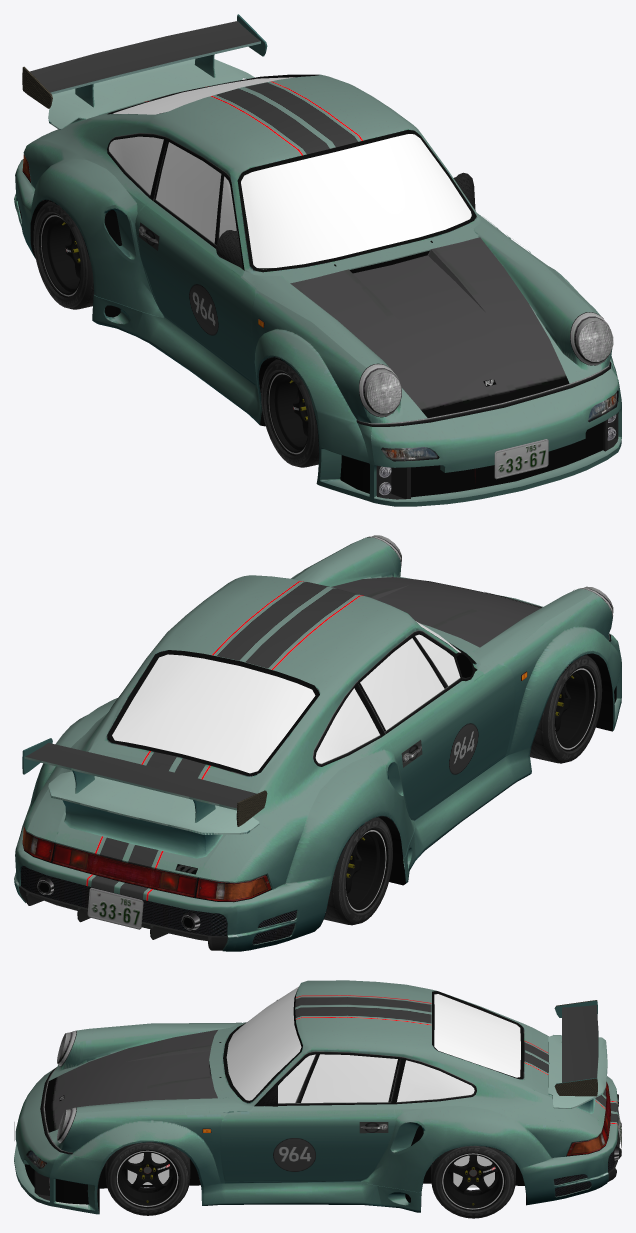
Rendered from Porscche.glb.
3 views of the same model, one above another, from view 1: azimuth 30°, elevation 25°; view 2: azimuth 150°, elevation 25°; view 3: azimuth 270°, elevation 25° (orthographic). The views are drawn at different scales.
Parts seen in each view (by area): view 1: PLC_R964_aero_F_.001, glass___O_OBJ_O_NOSORT_NEAR_.002, PLC_R964_bonnet_N_.002, PLC_R964_rearspoiler_N_F_, PLC_R964_body_N_.002, PLC_R964_aero_F_.002, HL_BD_COVER___O_OBJ_O_NOSORT_NEAR_.002, wheel.002, wheel.003, HONDA_CIVIC_TURBO_LOD_A_TYRE_mm_tyre.003, HONDA_CIVIC_TURBO_LOD_A_TYRE_mm_tyre.002, PLC_R964_aero_F_.003 (+2 smaller); view 2: PLC_R964_aero_F_.001, glass___O_OBJ_O_NOSORT_NEAR_.002, PLC_R964_rearspoiler_N_F_, PLC_R964_body_N_.002, PLC_R964_bonnet_N_.002, PLC_R964_trunk_N_NABCDEFGH_.002, wheel.002, wheel.003, HONDA_CIVIC_TURBO_LOD_A_TYRE_mm_tyre.002, HONDA_CIVIC_TURBO_LOD_A_TYRE_mm_tyre.003, PLC_R964_aero_F_.002, PLC_R964_aero_F_.003 (+1 smaller); view 3: PLC_R964_aero_F_.001, glass___O_OBJ_O_NOSORT_NEAR_.002, PLC_R964_bonnet_N_.002, PLC_R964_rearspoiler_N_F_, PLC_R964_body_N_.002, wheel, wheel.001, HONDA_CIVIC_TURBO_LOD_A_TYRE_mm_tyre.001, HONDA_CIVIC_TURBO_LOD_A_TYRE_mm_tyre, PLC_R964_aero_F_.002, PLC_R964_trunk_N_NABCDEFGH_.002, PLC_R964_body_N_L0_.004 (+3 smaller).
Part boxes in pixels (box(x1,y1,x2,y2)): PLC_R964_aero_F_.001: box(14, 74, 621, 506); glass___O_OBJ_O_NOSORT_NEAR_.002: box(109, 77, 471, 267); PLC_R964_bonnet_N_.002: box(290, 237, 569, 417); PLC_R964_rearspoiler_N_F_: box(22, 14, 267, 129); PLC_R964_body_N_.002: box(22, 74, 611, 417); PLC_R964_aero_F_.002: box(30, 200, 611, 493); HL_BD_COVER___O_OBJ_O_NOSORT_NEAR_.002: box(363, 316, 613, 413); wheel.002: box(266, 371, 308, 455); wheel.003: box(39, 213, 80, 297); HONDA_CIVIC_TURBO_LOD_A_TYRE_mm_tyre.003: box(33, 201, 93, 309); HONDA_CIVIC_TURBO_LOD_A_TYRE_mm_tyre.002: box(261, 359, 318, 467); PLC_R964_aero_F_.003: box(494, 439, 548, 479); PLC_R964_aero_F_.001: box(14, 537, 621, 951); glass___O_OBJ_O_NOSORT_NEAR_.002: box(112, 621, 460, 773); PLC_R964_rearspoiler_N_F_: box(22, 738, 267, 858); PLC_R964_body_N_.002: box(22, 536, 613, 902); PLC_R964_bonnet_N_.002: box(331, 577, 541, 647); PLC_R964_trunk_N_NABCDEFGH_.002: box(54, 751, 254, 877); wheel.002: box(554, 667, 597, 751); wheel.003: box(345, 829, 388, 912); HONDA_CIVIC_TURBO_LOD_A_TYRE_mm_tyre.002: box(529, 654, 602, 763); HONDA_CIVIC_TURBO_LOD_A_TYRE_mm_tyre.003: box(324, 817, 392, 925); PLC_R964_aero_F_.002: box(275, 579, 616, 888); PLC_R964_aero_F_.003: box(87, 887, 143, 929); PLC_R964_aero_F_.001: box(14, 980, 621, 1214); glass___O_OBJ_O_NOSORT_NEAR_.002: box(226, 986, 520, 1103); PLC_R964_bonnet_N_.002: box(44, 1030, 221, 1132); PLC_R964_rearspoiler_N_F_: box(548, 1000, 607, 1113); PLC_R964_body_N_.002: box(57, 989, 610, 1156); wheel: box(441, 1153, 504, 1210); wheel.001: box(116, 1150, 179, 1208); HONDA_CIVIC_TURBO_LOD_A_TYRE_mm_tyre.001: box(105, 1142, 190, 1215); HONDA_CIVIC_TURBO_LOD_A_TYRE_mm_tyre: box(431, 1145, 515, 1218); PLC_R964_aero_F_.002: box(40, 1067, 564, 1213); PLC_R964_trunk_N_NABCDEFGH_.002: box(532, 1029, 606, 1124); PLC_R964_body_N_L0_.004: box(184, 1022, 395, 1181).
Size of the model in its own units: 4.88 by 3.19 by 11.
13 materials, 11 textured.
